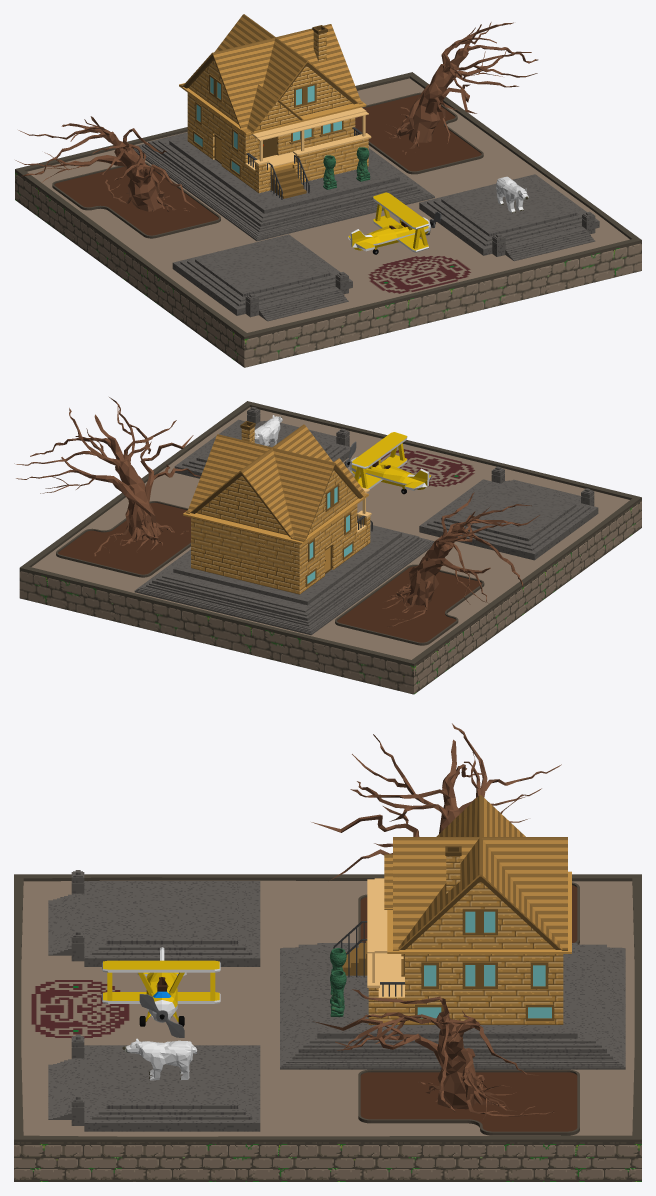
3 renders of one model, top to bottom at view 1: azimuth 30°, elevation 25°; view 2: azimuth 150°, elevation 25°; view 3: azimuth 270°, elevation 25°, orthographic. The views are drawn at different scales.
Visible parts, largest first — view 1: Cube.011, Cube.508, VEHICLES_AIRPLANE, ANIMAL_OSO_POLAR; view 2: Cube.011, Cube.508, VEHICLES_AIRPLANE, ANIMAL_OSO_POLAR; view 3: Cube.011, Cube.508, VEHICLES_AIRPLANE, ANIMAL_OSO_POLAR.
Boxes of the visible parts, x1=… form: Cube.011: x1=15, y1=22, x2=641, y2=367; Cube.508: x1=179, y1=14, x2=371, y2=199; VEHICLES_AIRPLANE: x1=348, y1=192, x2=441, y2=254; ANIMAL_OSO_POLAR: x1=496, y1=176, x2=528, y2=213; Cube.011: x1=14, y1=397, x2=641, y2=694; Cube.508: x1=183, y1=421, x2=372, y2=594; VEHICLES_AIRPLANE: x1=344, y1=432, x2=431, y2=494; ANIMAL_OSO_POLAR: x1=254, y1=415, x2=282, y2=447; Cube.011: x1=14, y1=723, x2=641, y2=1181; Cube.508: x1=333, y1=795, x2=571, y2=1024; VEHICLES_AIRPLANE: x1=102, y1=947, x2=220, y2=1037; ANIMAL_OSO_POLAR: x1=122, y1=1038, x2=197, y2=1080.
Bounding box in the file's own units: 5099 × 1683 × 4000.
Materials: 34 (7 with a texture image).
